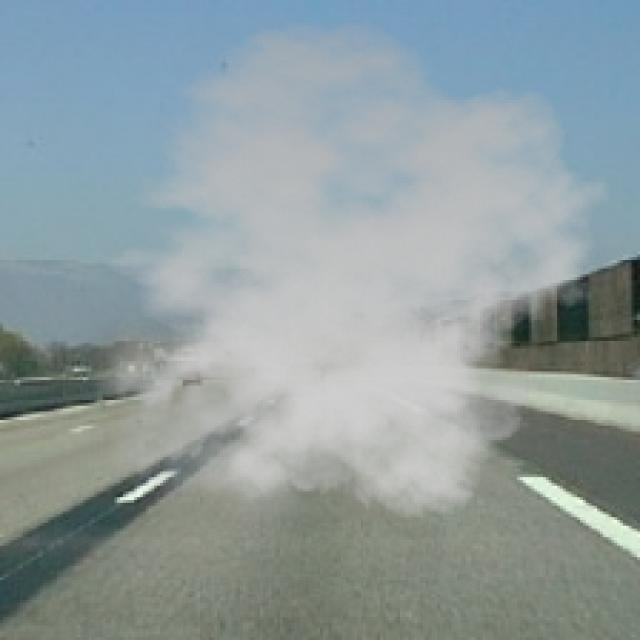smoke: (69, 20, 612, 534)
